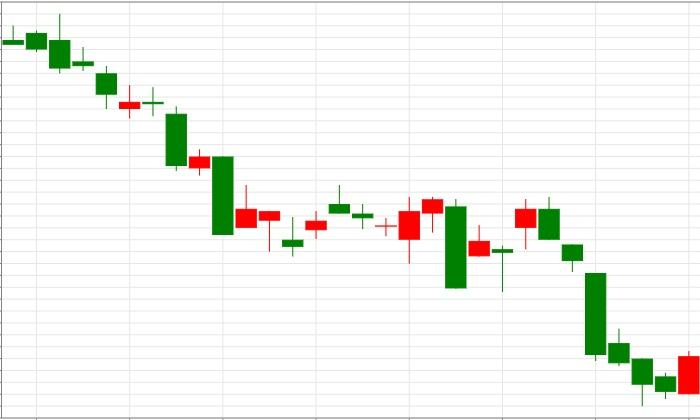bullish_engulfing_rise: (539, 196, 700, 406)
